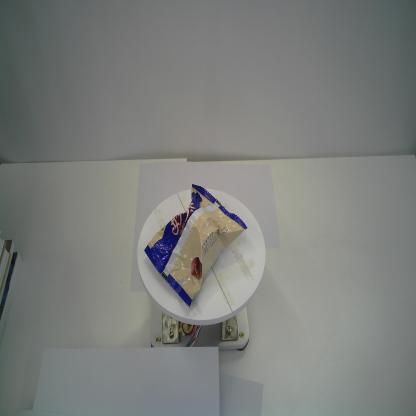Dessert: (143, 183, 247, 307)
